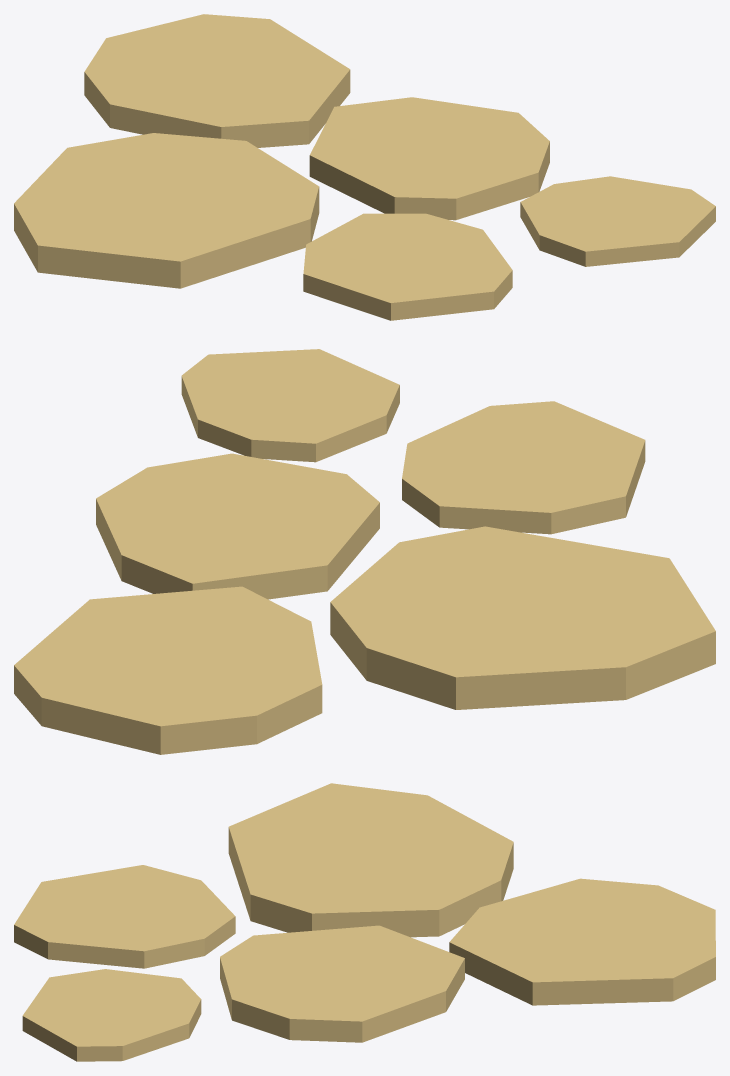
Rendered from StonesFloor_SM.fbx.
3 views of the same model, one above another, from view 1: azimuth 30°, elevation 25°; view 2: azimuth 150°, elevation 25°; view 3: azimuth 270°, elevation 25° (orthographic). The views are drawn at different scales.
Visible parts, largest first — view 1: StonesFloor_SM; view 2: StonesFloor_SM; view 3: StonesFloor_SM.
Part boxes in pixels (x1,y1,x2,y2): StonesFloor_SM: (14,14,715,320); StonesFloor_SM: (14,349,715,754); StonesFloor_SM: (14,783,715,1061).
Size of the model in its own units: 111 by 5.25 by 125.
